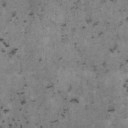oxide scale of temperature system: (82, 19, 128, 114), (0, 83, 80, 128), (2, 0, 34, 24), (0, 38, 18, 59), (61, 23, 67, 28), (38, 57, 42, 62), (126, 16, 128, 22), (110, 0, 114, 2)
